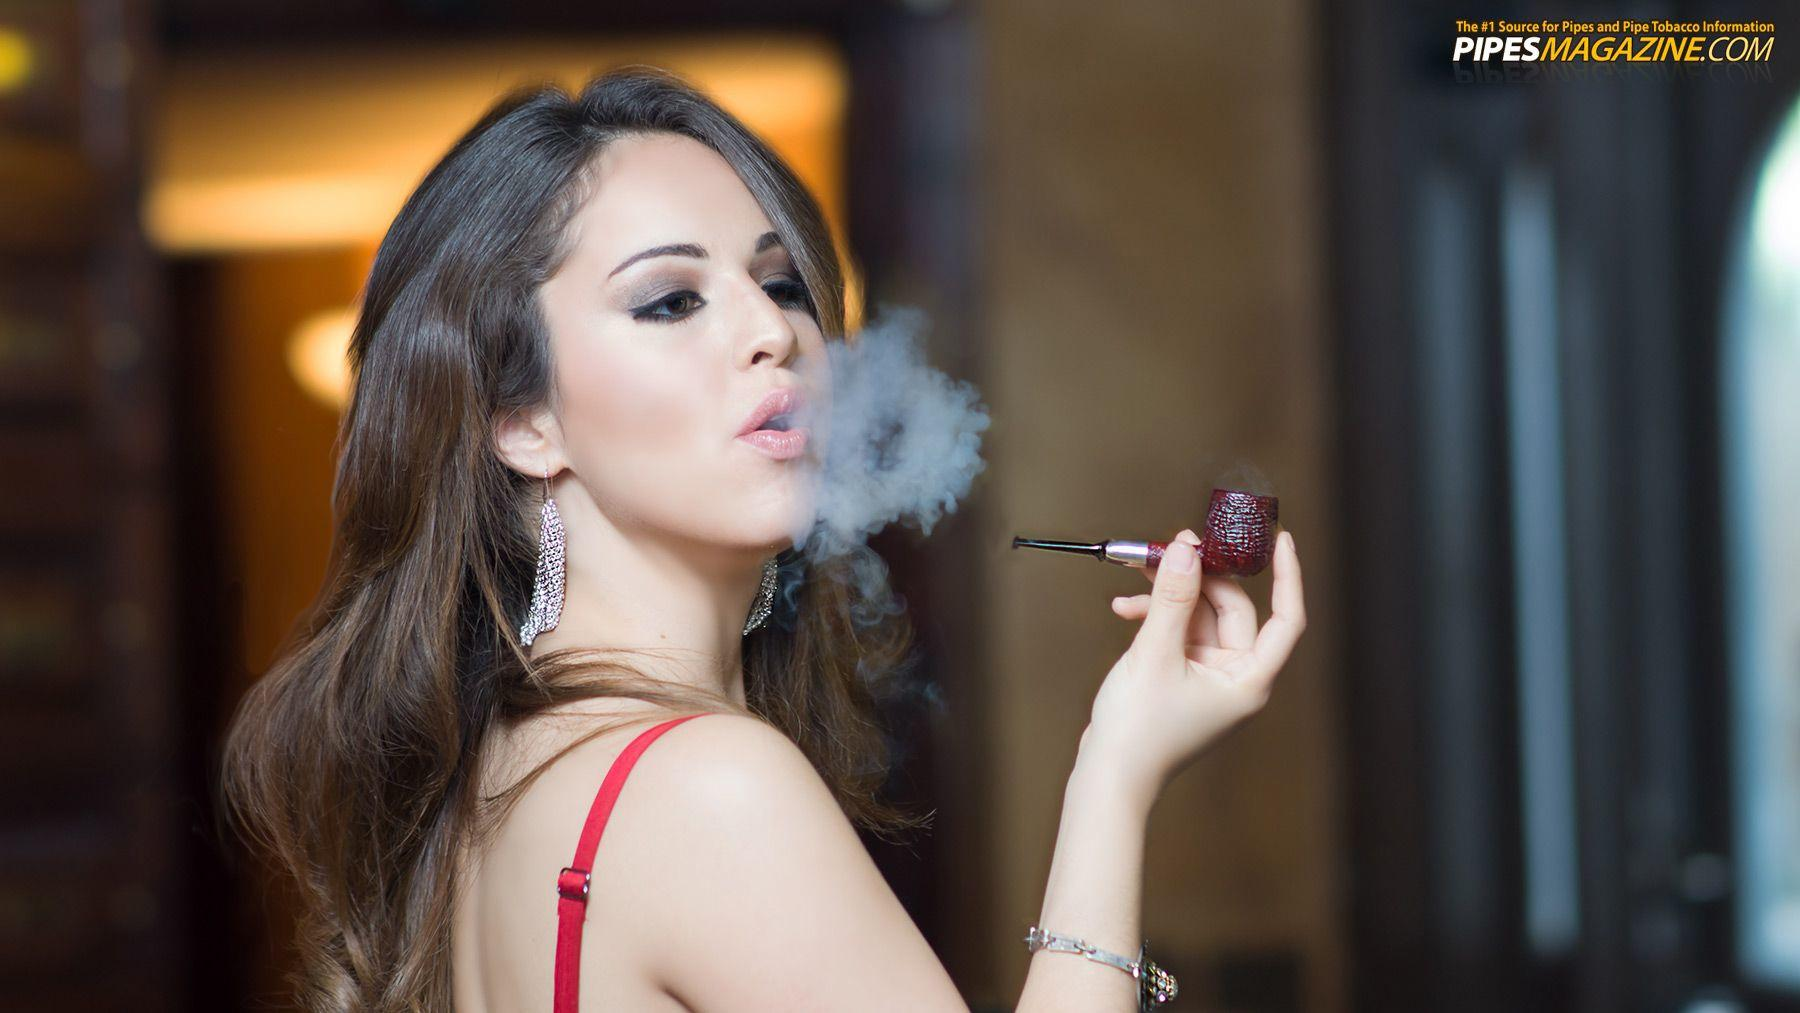trubka: (1012, 489, 1278, 575)
